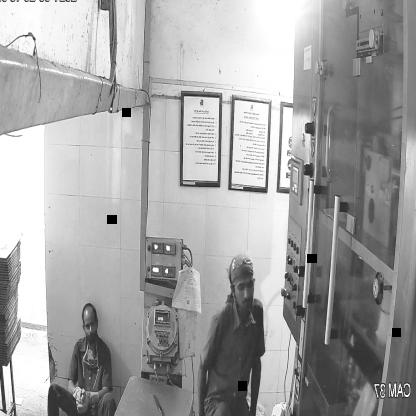no_goggles: (231, 275, 256, 296), (80, 315, 100, 334)
